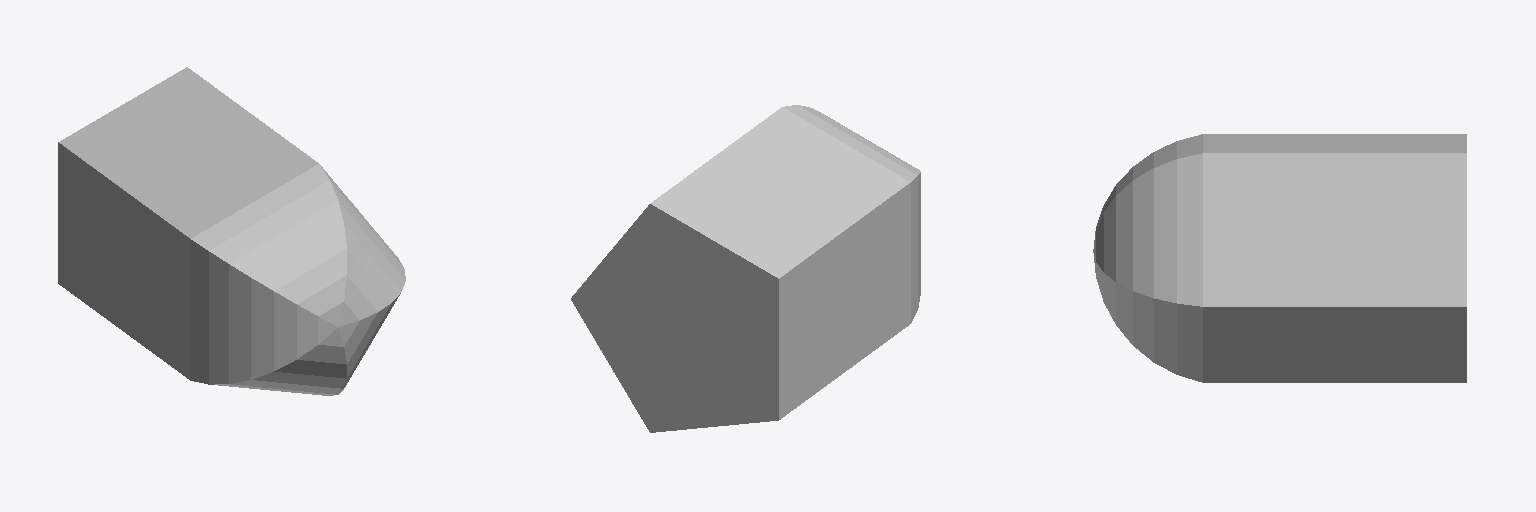
Rendered from cimetiere.obj.
3 renders of one model, left to right at view 1: azimuth 30°, elevation 25°; view 2: azimuth 150°, elevation 25°; view 3: azimuth 270°, elevation 25°, orthographic.
Parts seen in each view (by area): view 1: Sphere; view 2: Sphere; view 3: Sphere.
Part boxes in pixels (x1,y1,x2,y2): Sphere: (58,67,405,395); Sphere: (571,105,920,432); Sphere: (1093,134,1466,382).
Bounding box in the file's own units: 1.77 × 1.87 × 2.75.